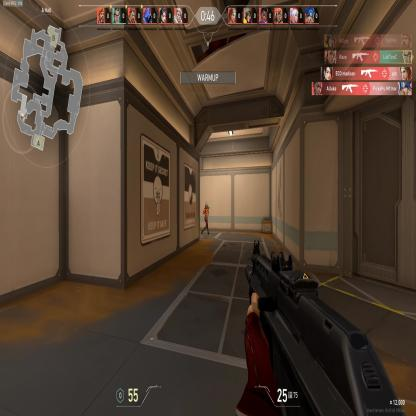enemy: (201, 200, 210, 237)
